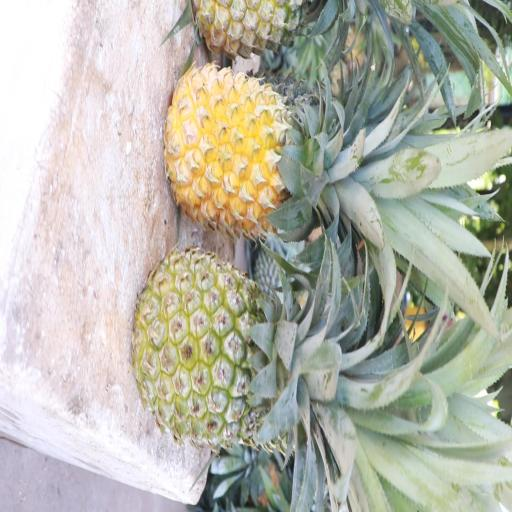------------------------------: (139, 259, 332, 447)
Pineapple - v8 v1: (166, 67, 339, 232)
